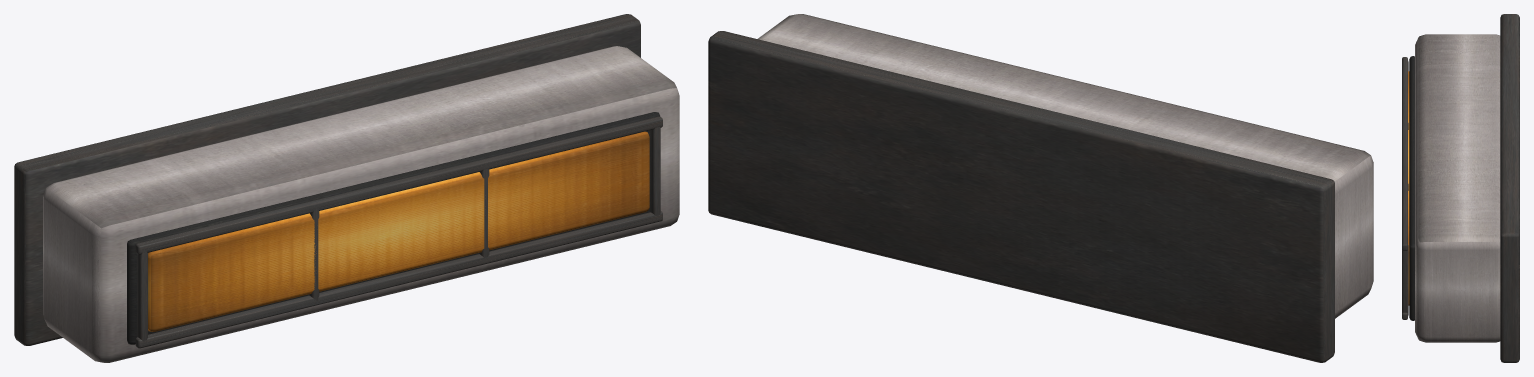
Rendered from SM_FacilityRooms_WallLamp.fbx.
3 views of the same model, side by side, from view 1: azimuth 30°, elevation 25°; view 2: azimuth 150°, elevation 25°; view 3: azimuth 270°, elevation 25° (orthographic). The views are drawn at different scales.
Parts seen in each view (by area): view 1: SM_FacilityRooms_WallLamp; view 2: SM_FacilityRooms_WallLamp; view 3: SM_FacilityRooms_WallLamp.
Boxes of the visible parts, x1=… form: SM_FacilityRooms_WallLamp: x1=14, y1=14, x2=679, y2=362; SM_FacilityRooms_WallLamp: x1=708, y1=14, x2=1373, y2=362; SM_FacilityRooms_WallLamp: x1=1402, y1=14, x2=1519, y2=362.
Size of what is drawn, in the model's own units: 80 by 18 by 22.
